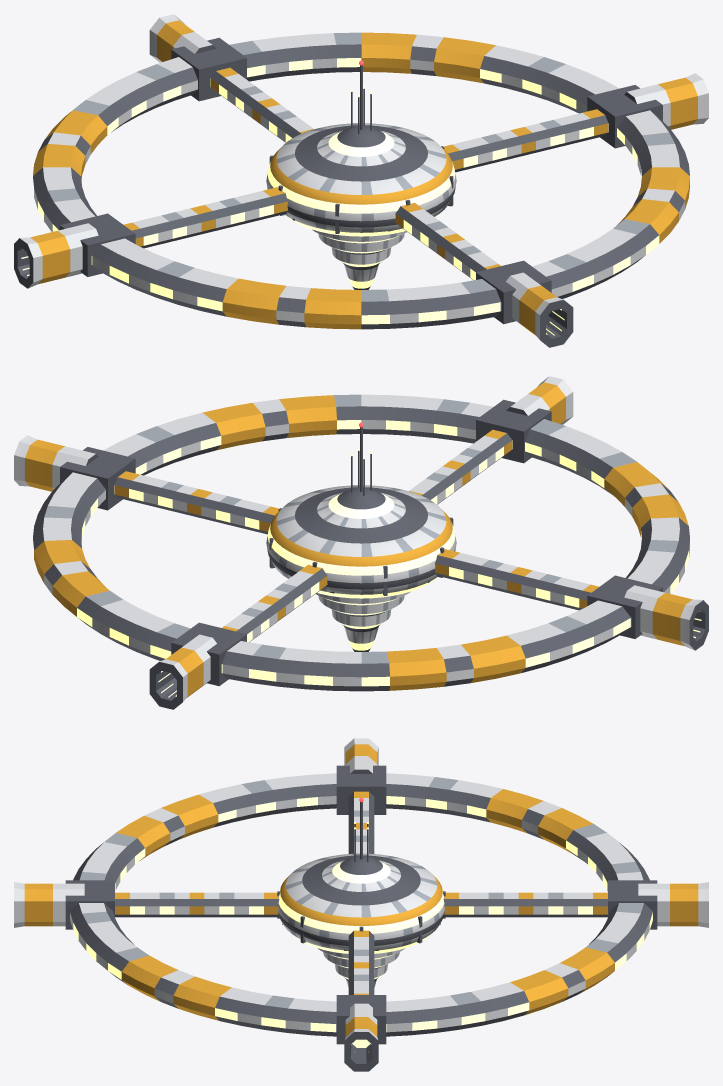
File: orbital_station.glb
3 renders of one model, top to bottom at view 1: azimuth 30°, elevation 25°; view 2: azimuth 150°, elevation 25°; view 3: azimuth 270°, elevation 25°, orthographic. The views are drawn at different scales.
Visible parts, largest first — view 1: Outer_Ring, Central_Hub, Spoke_PosX, Spoke_NegX, DockingPort_West, DockingPort_South, Spoke_NegY, Spoke_PosY, DockingPort_East, Ring_Junction_18, Ring_Junction_0, DockingPort_North (+2 smaller); view 2: Outer_Ring, Central_Hub, Spoke_PosX, Spoke_NegX, DockingPort_West, DockingPort_North, Spoke_PosY, Spoke_NegY, DockingPort_East, Ring_Junction_54, Ring_Junction_0, DockingPort_South (+2 smaller); view 3: Outer_Ring, Central_Hub, Spoke_NegY, Spoke_PosY, DockingPort_North, DockingPort_South, DockingPort_East, Ring_Junction_36, Spoke_PosX, Spoke_NegX, Ring_Junction_0, Ring_Junction_18 (+2 smaller).
Part boxes in pixels (x1,y1,x2,y2): Outer_Ring: (33, 32, 689, 329); Central_Hub: (266, 123, 456, 289); Spoke_PosX: (444, 109, 608, 172); Spoke_NegX: (123, 187, 287, 248); DockingPort_West: (14, 223, 98, 288); DockingPort_South: (506, 272, 573, 347); Spoke_NegY: (395, 202, 500, 280); Spoke_PosY: (210, 67, 313, 142); DockingPort_East: (624, 73, 708, 129); Ring_Junction_18: (171, 37, 246, 101); Ring_Junction_0: (587, 85, 662, 148); DockingPort_North: (149, 14, 216, 62); Outer_Ring: (33, 394, 689, 691); Central_Hub: (266, 485, 456, 651); Spoke_PosX: (114, 471, 278, 534); Spoke_NegX: (435, 549, 599, 610); DockingPort_West: (624, 585, 708, 650); DockingPort_North: (149, 634, 216, 709); Spoke_PosY: (222, 564, 327, 642); Spoke_NegY: (409, 429, 512, 504); DockingPort_East: (14, 435, 98, 491); Ring_Junction_54: (476, 399, 551, 463); Ring_Junction_0: (60, 447, 135, 510); DockingPort_South: (506, 376, 573, 424); Outer_Ring: (70, 773, 652, 1036); Central_Hub: (278, 853, 444, 987); Spoke_NegY: (115, 892, 279, 917); Spoke_PosY: (443, 892, 607, 917); DockingPort_North: (638, 882, 708, 927); DockingPort_South: (14, 882, 84, 927); DockingPort_East: (344, 1003, 378, 1071); Ring_Junction_36: (336, 765, 386, 814); Spoke_PosX: (348, 930, 374, 994); Spoke_NegX: (348, 791, 374, 853); Ring_Junction_0: (336, 995, 386, 1044); Ring_Junction_18: (608, 880, 657, 929).
Bounding box in the file's own units: 1230 × 414 × 1230.
